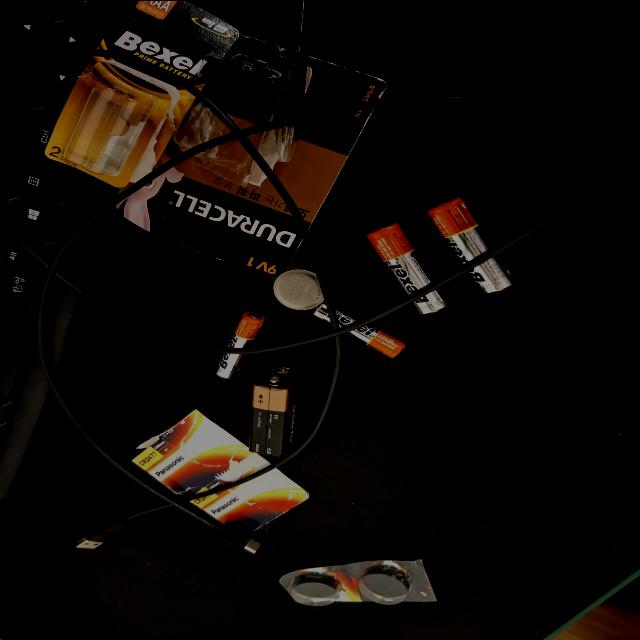9V: (247, 348, 361, 388)
AA: (464, 482, 590, 546), (441, 437, 557, 498)
AAA: (377, 395, 445, 463), (354, 321, 432, 357)
COIN: (440, 366, 490, 404)
